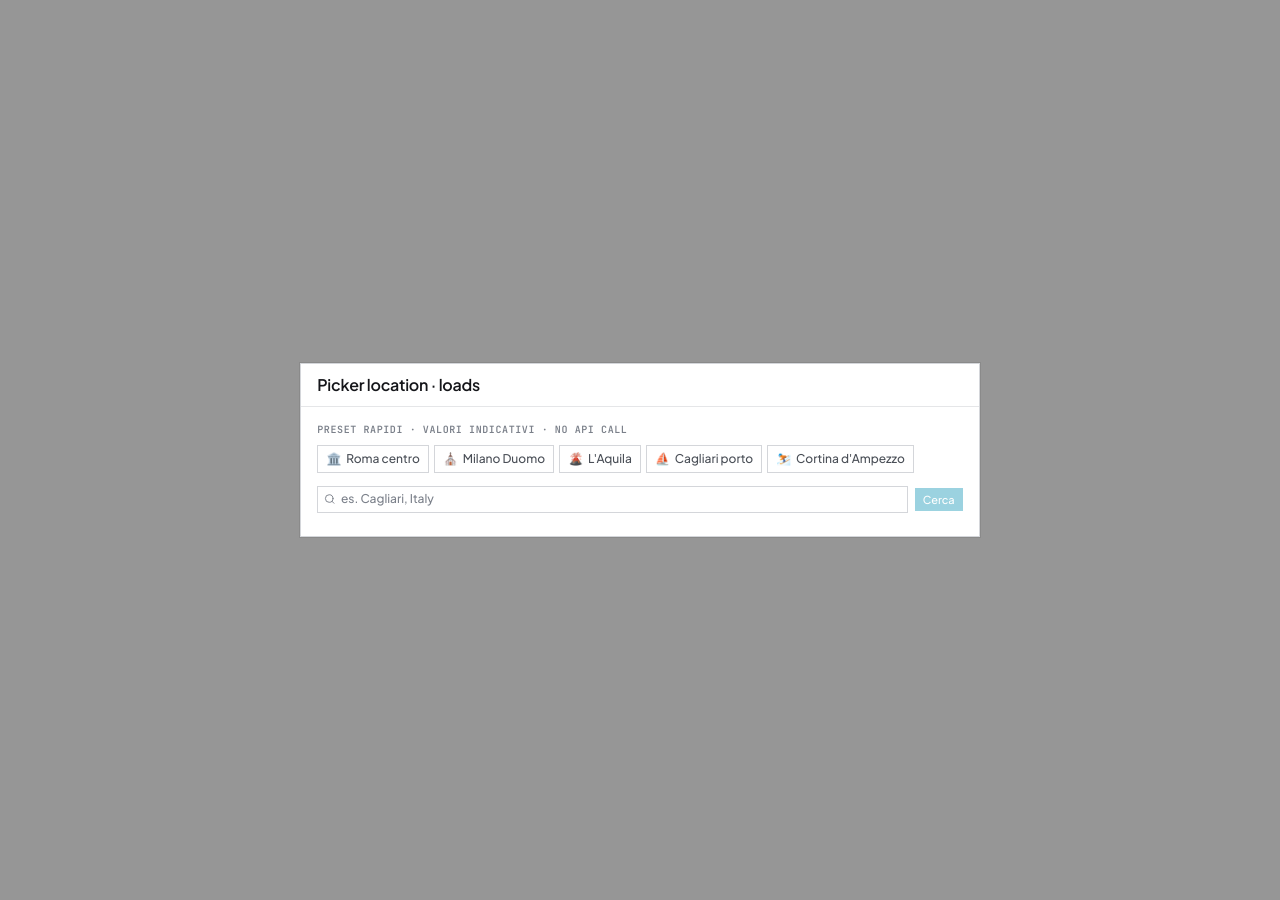
it: LocationPickerDialog › reset clears selection
Type "Cagliari" into the field with test id "location-search-input" at (613, 499), box [317,486,908,513]
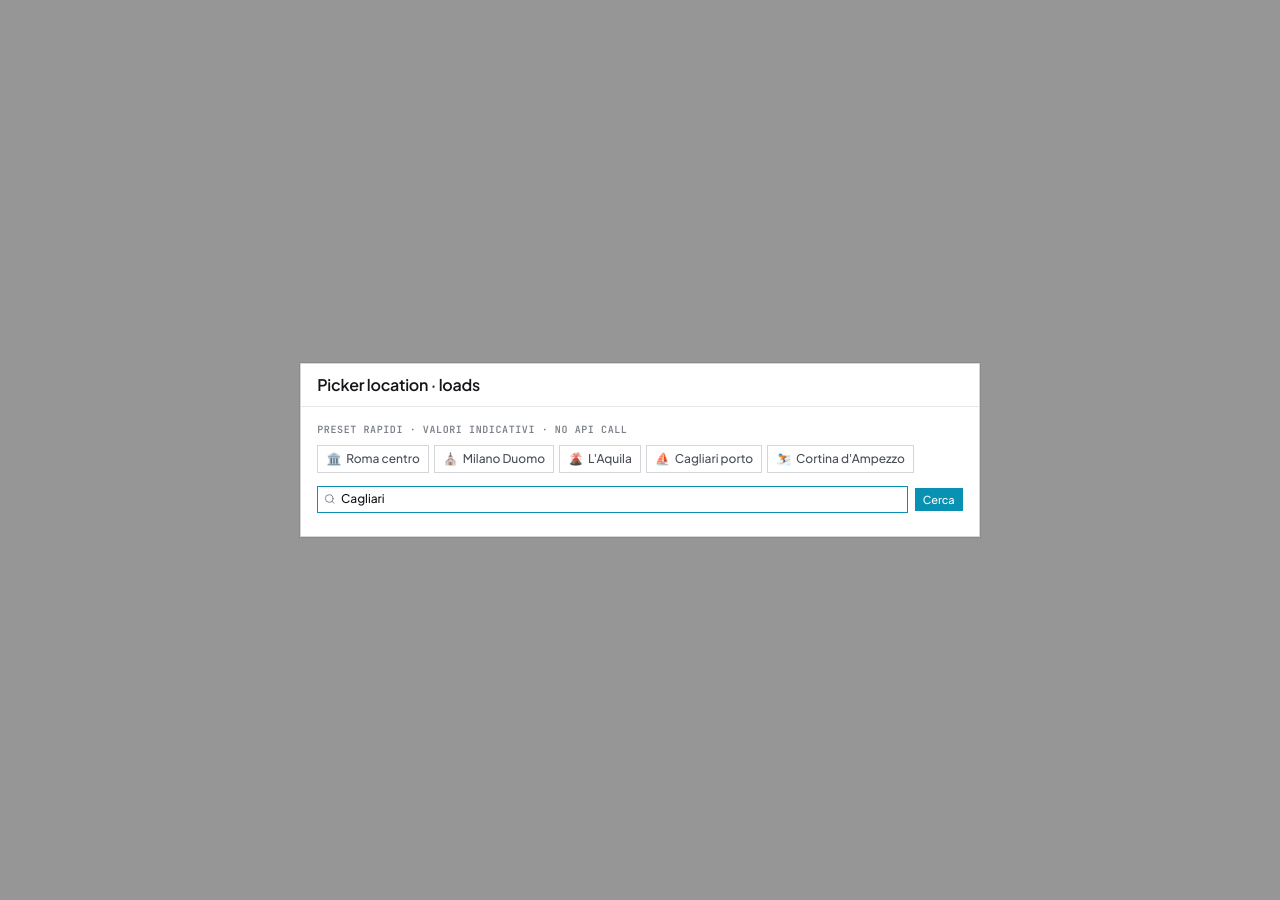
Click the button with test id "location-search-submit" at (939, 499), box [914,488,963,511]
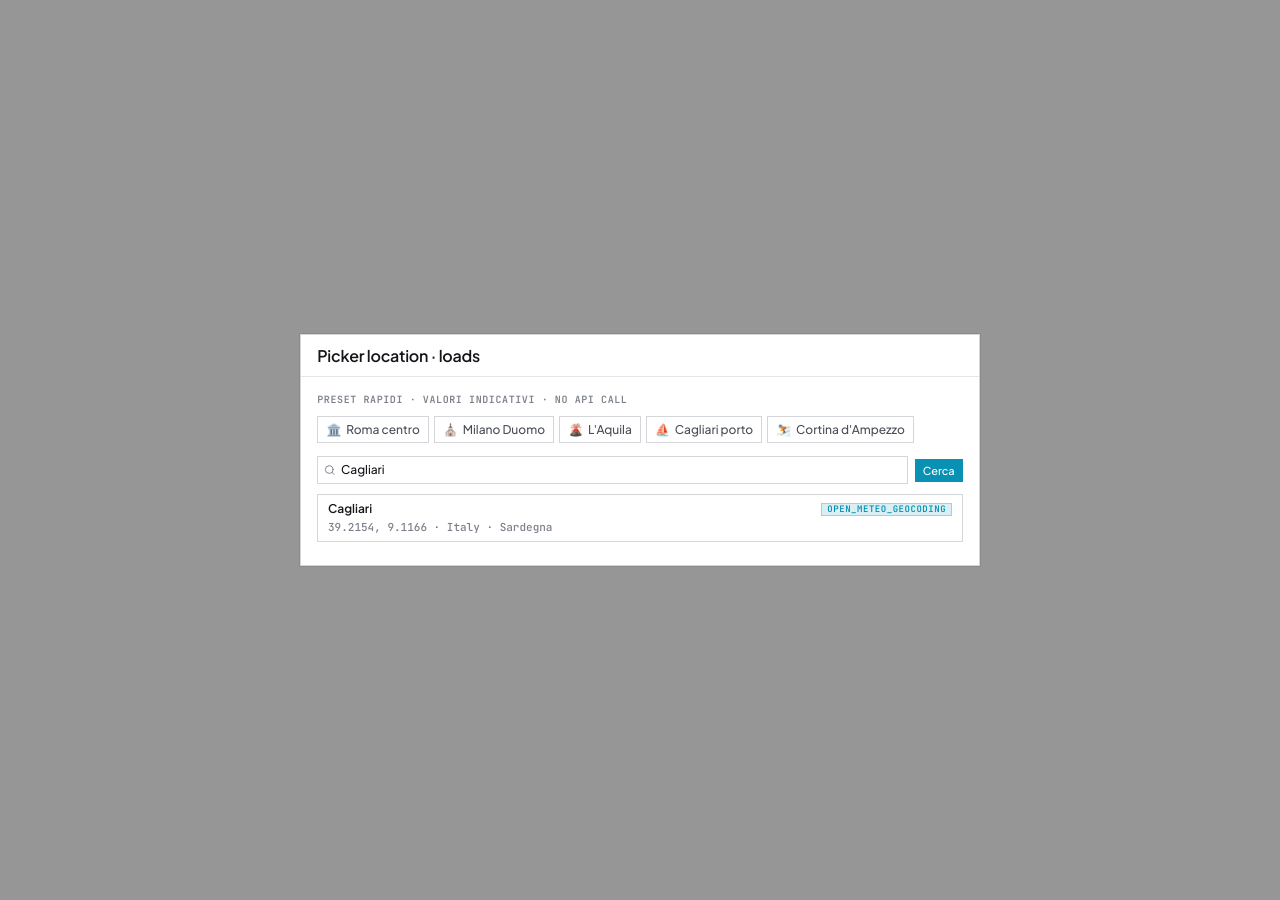
Expected: the button with test id "location-result-0" is shown
Click the button with test id "location-result-0" at (350, 509), box [317,494,963,542]
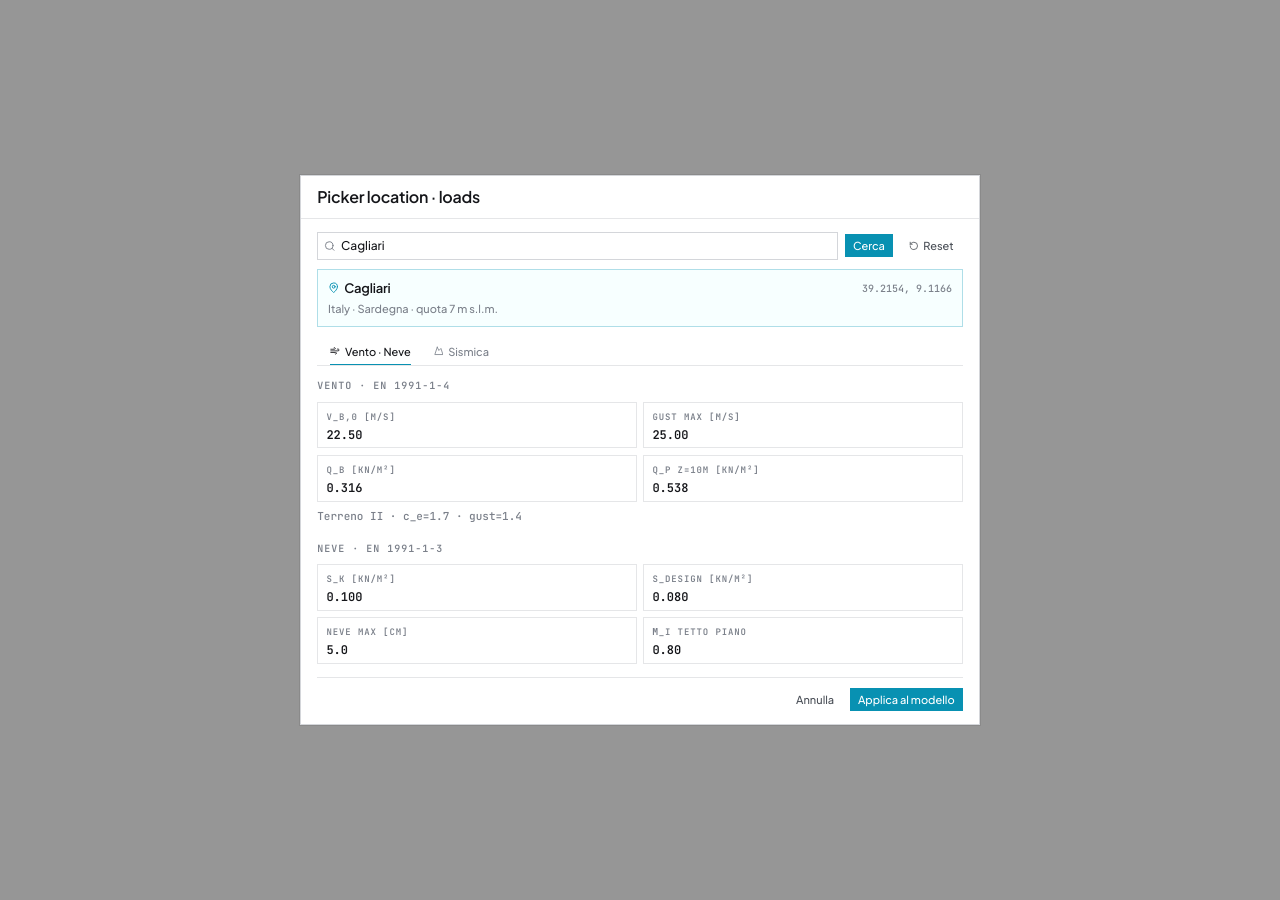
Expected: the element with test id "location-detail" is shown, [317,269,963,710]
Click the button with test id "location-reset" at (931, 246), box [900,234,963,257]
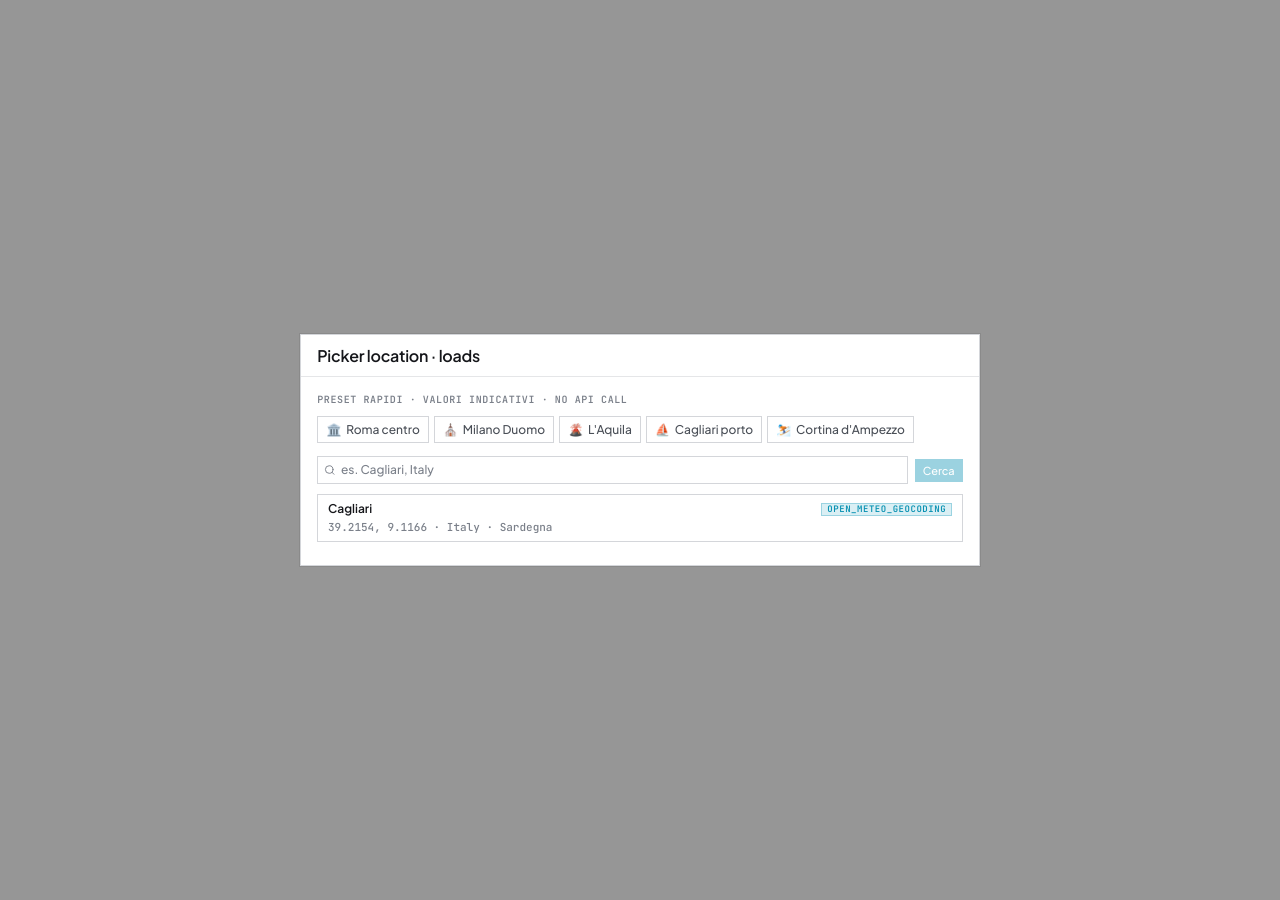
Expected: the element with test id "location-detail" is gone
